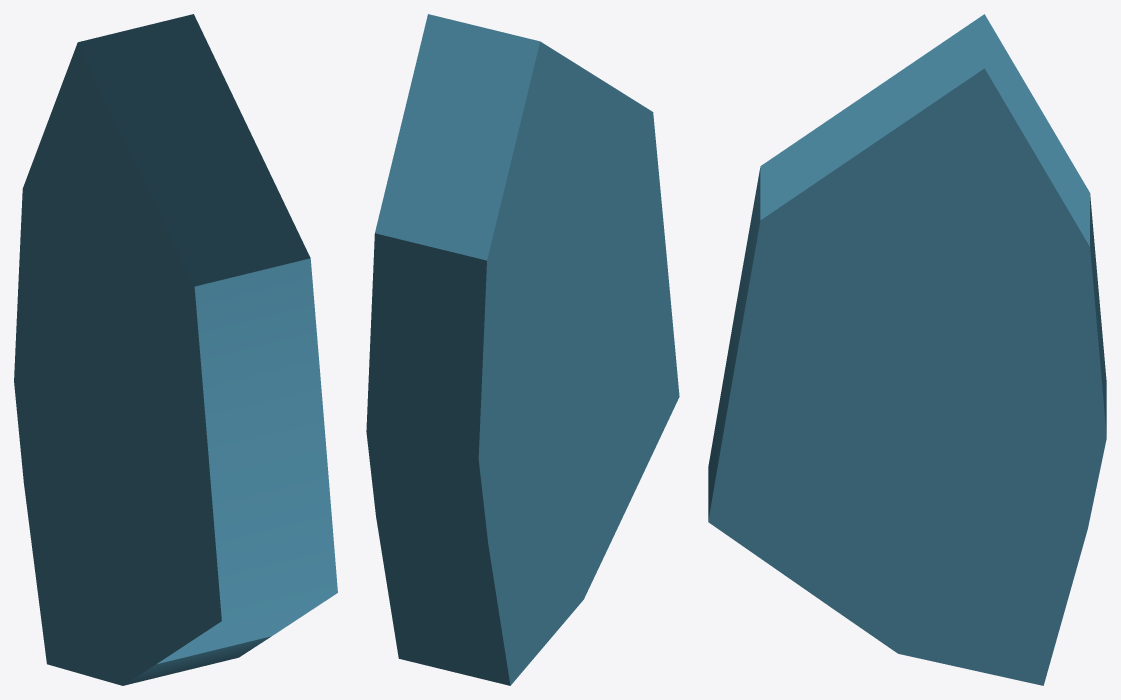
The model's file is NexusC_Trigger_28.fbx.
3 views of the same model, side by side, from view 1: azimuth 30°, elevation 25°; view 2: azimuth 150°, elevation 25°; view 3: azimuth 270°, elevation 25° (orthographic). The views are drawn at different scales.
Visible parts, largest first — view 1: polySurface40; view 2: polySurface40; view 3: polySurface40.
Part boxes in pixels (left/top/right/bottom): polySurface40: left=14, top=14, right=337, bottom=685; polySurface40: left=366, top=14, right=679, bottom=685; polySurface40: left=708, top=14, right=1106, bottom=685.
Bounding box in the file's own units: 10.17 × 53.91 × 31.52.
